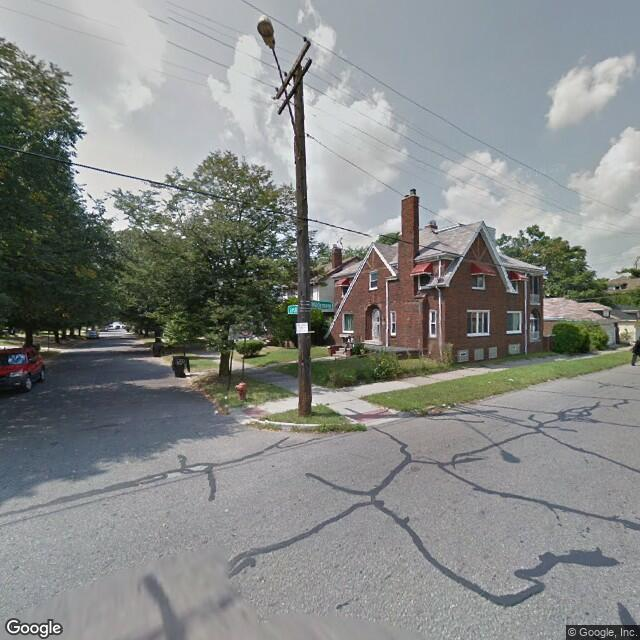litter: (212, 408, 221, 419), (445, 405, 455, 412), (506, 378, 519, 383), (221, 393, 228, 401)
